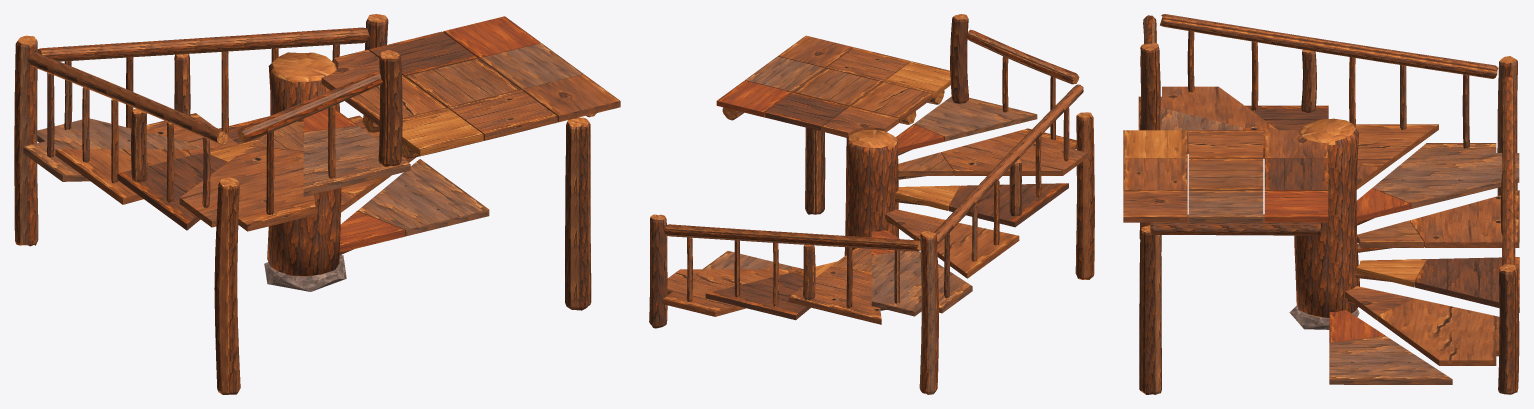
File: stairs_spiral_stacked__plank_root.glb
3 views of the same model, side by side, from view 1: azimuth 30°, elevation 25°; view 2: azimuth 150°, elevation 25°; view 3: azimuth 270°, elevation 25° (orthographic). The views are drawn at different scales.
Parts seen in each view (by area): view 1: model; view 2: model; view 3: model.
Boxes of the visible parts, box(x1,y1,x2,y2) form: model: box(14, 14, 620, 394); model: box(649, 14, 1094, 394); model: box(1123, 14, 1519, 394).
Size of the model in its own units: 3.83 by 2.82 by 3.82.
Materials: 26 (26 with a texture image).
